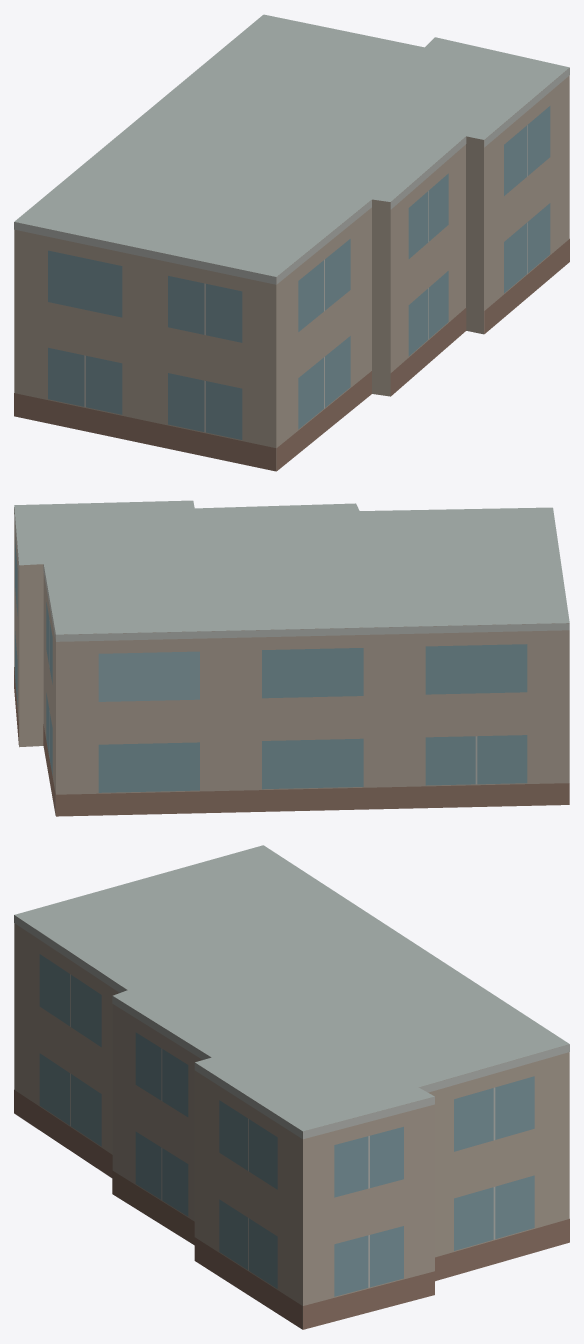
Rendered from survey-upis-32671804.glb.
The picture shows the model from 3 angles, top to bottom: view 1: azimuth 30°, elevation 25°; view 2: azimuth 150°, elevation 25°; view 3: azimuth 270°, elevation 25°; orthographic projection. The views are drawn at different scales.
Visible parts, largest first — view 1: survey-upis-32671804.tmp; view 2: survey-upis-32671804.tmp; view 3: survey-upis-32671804.tmp.
Part boxes in pixels (left/top/right/bottom): survey-upis-32671804.tmp: left=14, top=14, right=569, bottom=471; survey-upis-32671804.tmp: left=14, top=500, right=569, bottom=816; survey-upis-32671804.tmp: left=14, top=845, right=569, bottom=1329.
Bounding box in the file's own units: 18.89 × 6.1 × 15.49.
